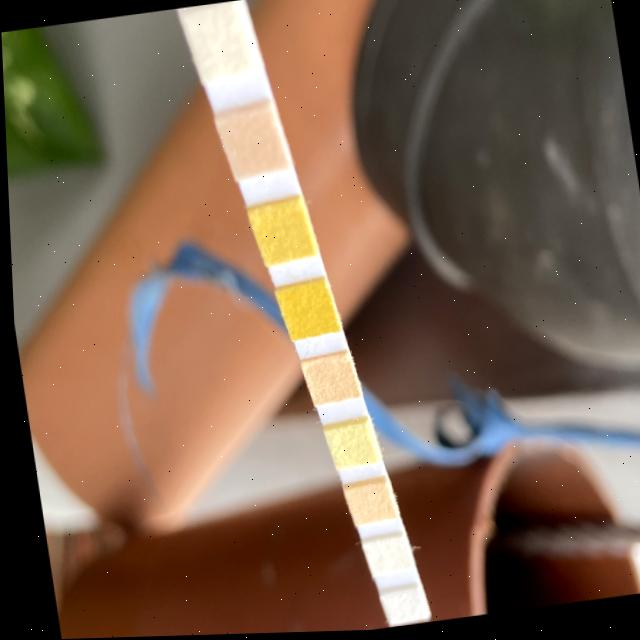Bilirubin: (191, 15, 249, 78)
Blood: (280, 288, 329, 339)
Ketone: (224, 117, 277, 177)
Leukocytes: (377, 592, 417, 626)
Nitrite: (360, 542, 402, 577)
Protein: (324, 427, 368, 470)
SpGravity: (254, 211, 302, 264)
Urobilinogen: (343, 487, 386, 526)
pH: (303, 358, 348, 403)
